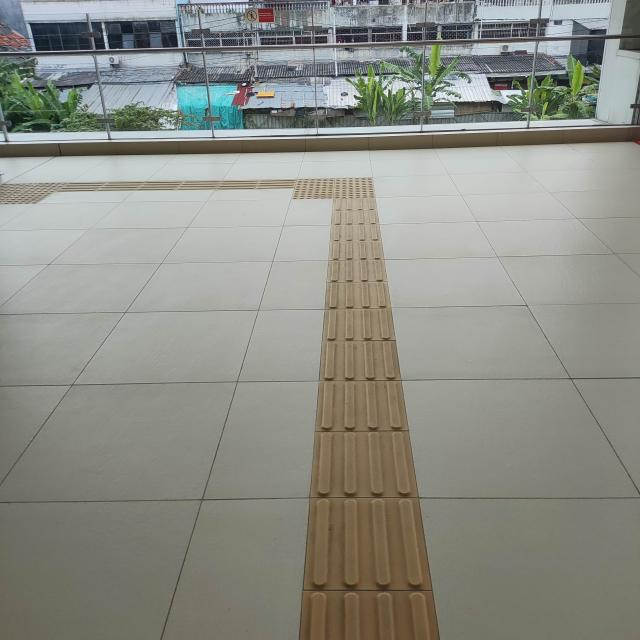kiri: (234, 157, 407, 226)
